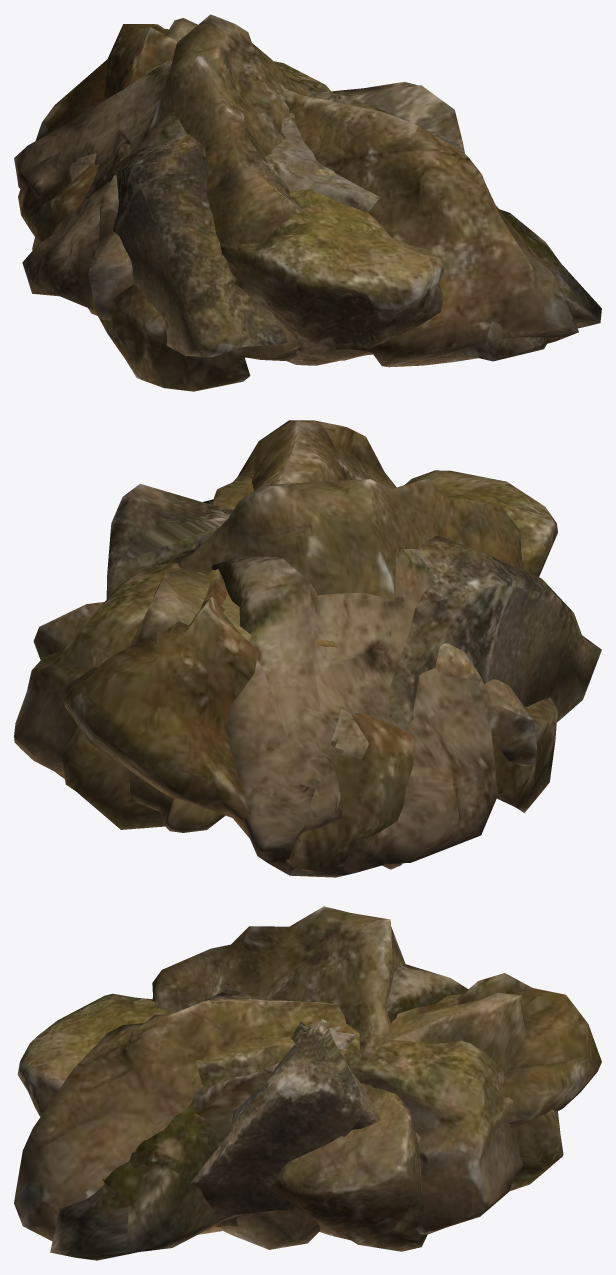
Rendered from moss-stones.glb.
The picture shows the model from 3 angles, top to bottom: view 1: azimuth 30°, elevation 25°; view 2: azimuth 150°, elevation 25°; view 3: azimuth 270°, elevation 25°; orthographic projection. The views are drawn at different scales.
Parts seen in each view (by area): view 1: rock_moss_set_01_rock01, rock_moss_set_01_rock03, rock_moss_set_01_rock05, rock_moss_set_01_rock02, rock_moss_set_01_rock04, rock_moss_set_01_rock06; view 2: rock_moss_set_01_rock02, rock_moss_set_01_rock01, rock_moss_set_01_rock03, rock_moss_set_01_rock04, rock_moss_set_01_rock05, rock_moss_set_01_rock06; view 3: rock_moss_set_01_rock01, rock_moss_set_01_rock04, rock_moss_set_01_rock05, rock_moss_set_01_rock02, rock_moss_set_01_rock03, rock_moss_set_01_rock06.
Part boxes in pixels (bbox=[...]): rock_moss_set_01_rock01: bbox=[18, 24, 578, 391]; rock_moss_set_01_rock03: bbox=[84, 81, 464, 357]; rock_moss_set_01_rock05: bbox=[68, 61, 444, 365]; rock_moss_set_01_rock02: bbox=[14, 60, 601, 361]; rock_moss_set_01_rock04: bbox=[88, 14, 322, 315]; rock_moss_set_01_rock06: bbox=[88, 18, 392, 320]; rock_moss_set_01_rock02: bbox=[195, 499, 498, 877]; rock_moss_set_01_rock01: bbox=[63, 420, 557, 870]; rock_moss_set_01_rock03: bbox=[106, 484, 601, 729]; rock_moss_set_01_rock04: bbox=[33, 478, 522, 869]; rock_moss_set_01_rock05: bbox=[14, 470, 557, 832]; rock_moss_set_01_rock06: bbox=[61, 470, 537, 829]; rock_moss_set_01_rock01: bbox=[14, 973, 601, 1249]; rock_moss_set_01_rock04: bbox=[152, 906, 427, 1251]; rock_moss_set_01_rock05: bbox=[17, 993, 523, 1234]; rock_moss_set_01_rock02: bbox=[50, 964, 468, 1260]; rock_moss_set_01_rock03: bbox=[190, 1019, 420, 1217]; rock_moss_set_01_rock06: bbox=[196, 992, 563, 1206].
Bounding box in the file's own units: 2.64 × 1.76 × 3.36.
Materials: 1 (1 with a texture image).
